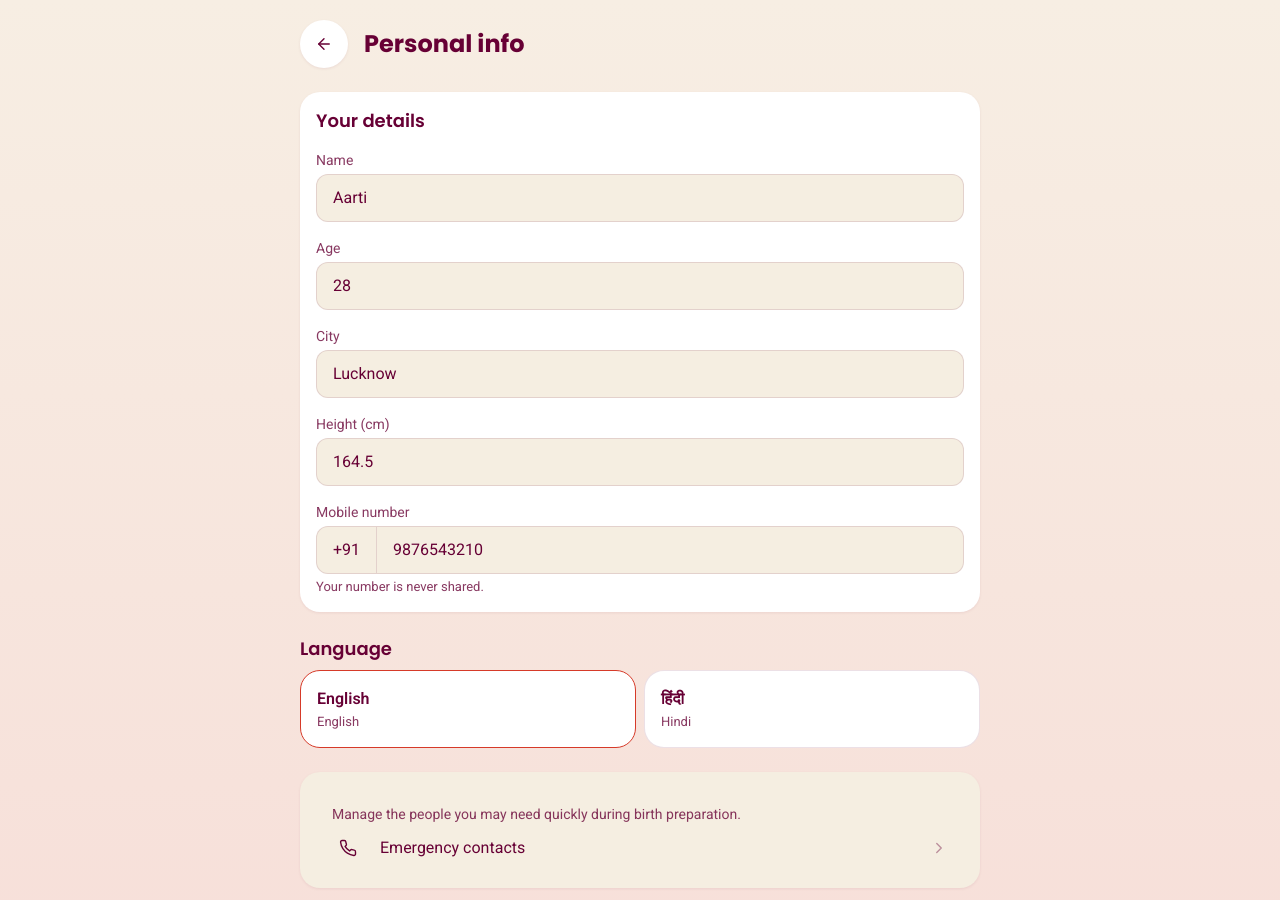
Test: PersonalInfoForm › persists a language change
This screenshot has width=1280, height=900.
Click the button "हिंदी Hindi": (676, 722) [644,670,980,748]
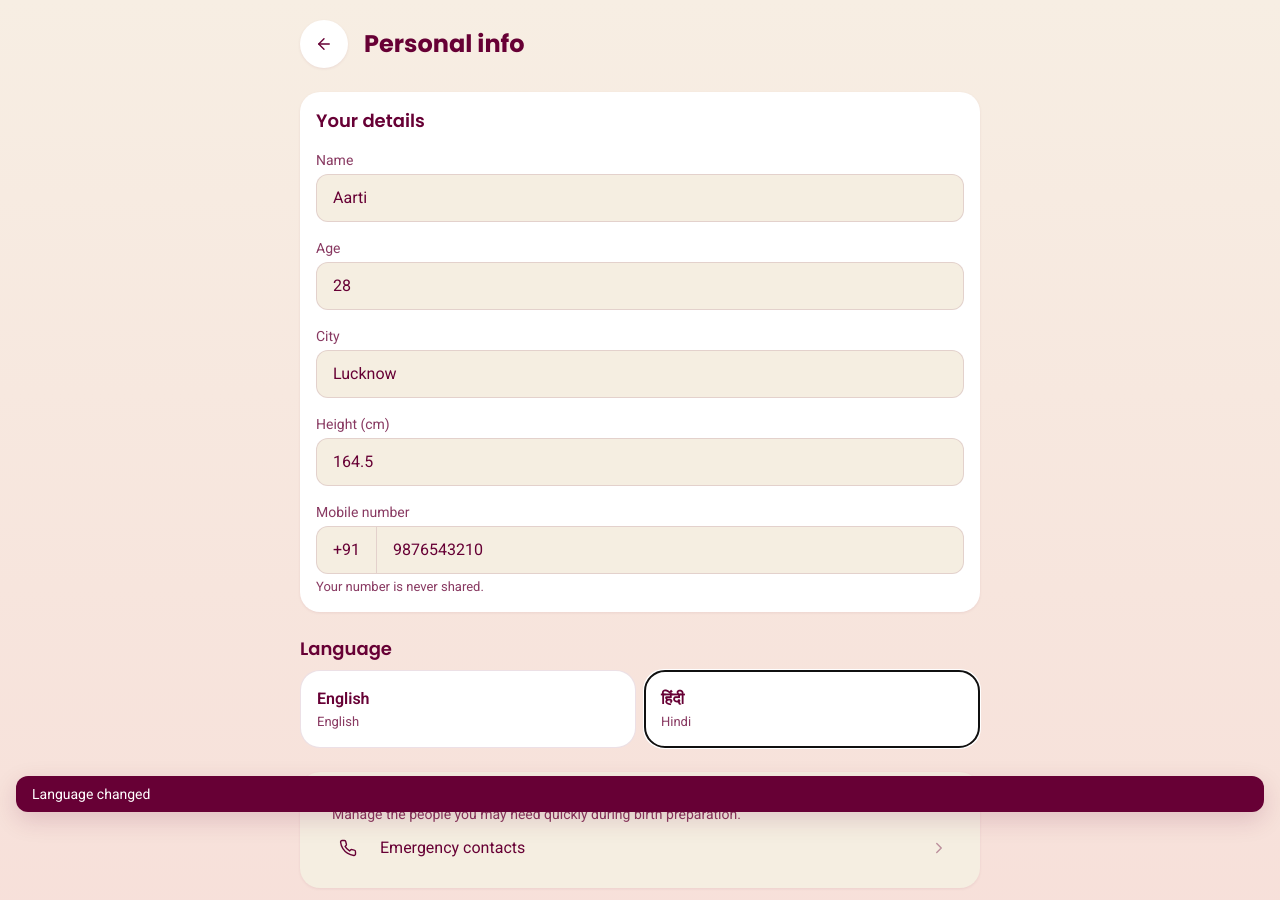
Check: the message reads "Language changed", box [32,786,150,802]
